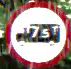Heavy Vehicles: (5, 2, 70, 68)
